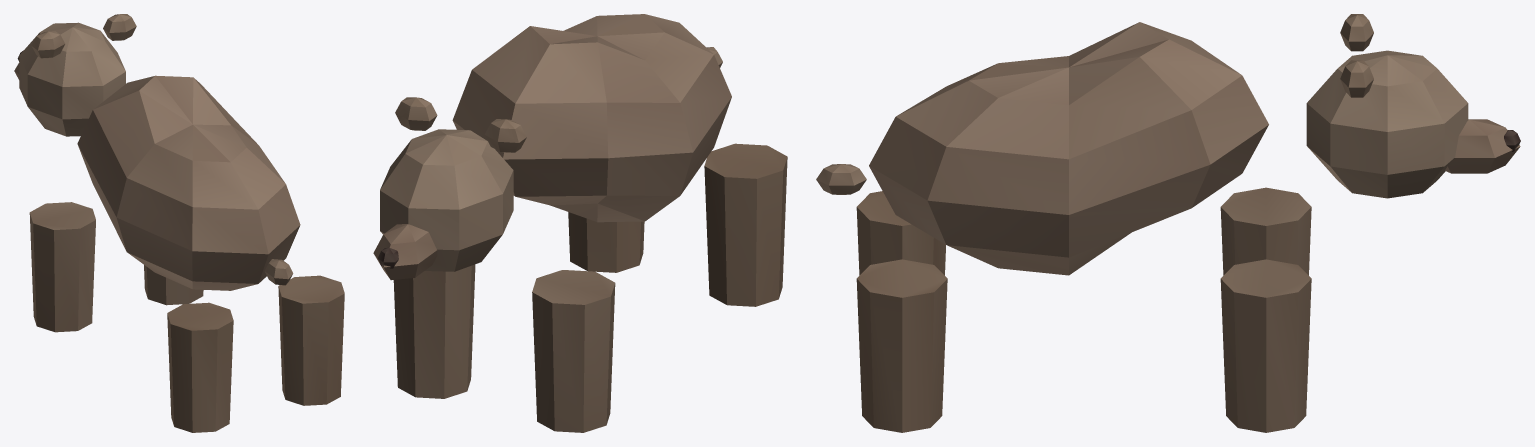
Rendered from grizzly_bear.glb.
3 views of the same model, side by side, from view 1: azimuth 30°, elevation 25°; view 2: azimuth 150°, elevation 25°; view 3: azimuth 270°, elevation 25° (orthographic). The views are drawn at different scales.
Parts seen in each view (by area): view 1: Grizzly_Bear; view 2: Grizzly_Bear; view 3: Grizzly_Bear.
Boxes of the visible parts, box(x1,y1,x2,y2) form: Grizzly_Bear: box(14, 14, 344, 432); Grizzly_Bear: box(373, 14, 787, 432); Grizzly_Bear: box(816, 14, 1520, 432).
Size of the model in its own units: 0.86 by 1.24 by 2.32.
